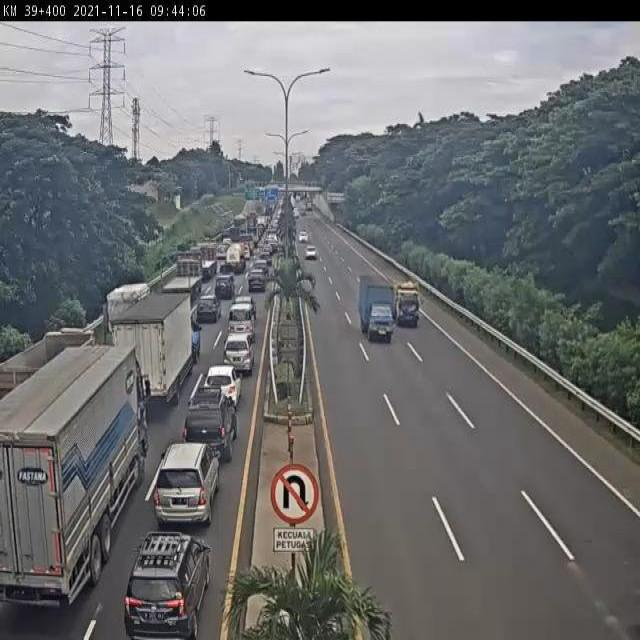car: (113, 525, 206, 636), (137, 438, 215, 538), (181, 382, 242, 470), (219, 325, 259, 384), (205, 360, 247, 408), (228, 303, 259, 337), (193, 291, 219, 328), (213, 268, 235, 308), (302, 244, 323, 268), (296, 230, 312, 246)
small truck: (392, 280, 421, 332)
truck-l-: (0, 344, 149, 611)
truck-m-: (107, 295, 197, 404), (0, 327, 96, 416), (359, 274, 399, 342)
